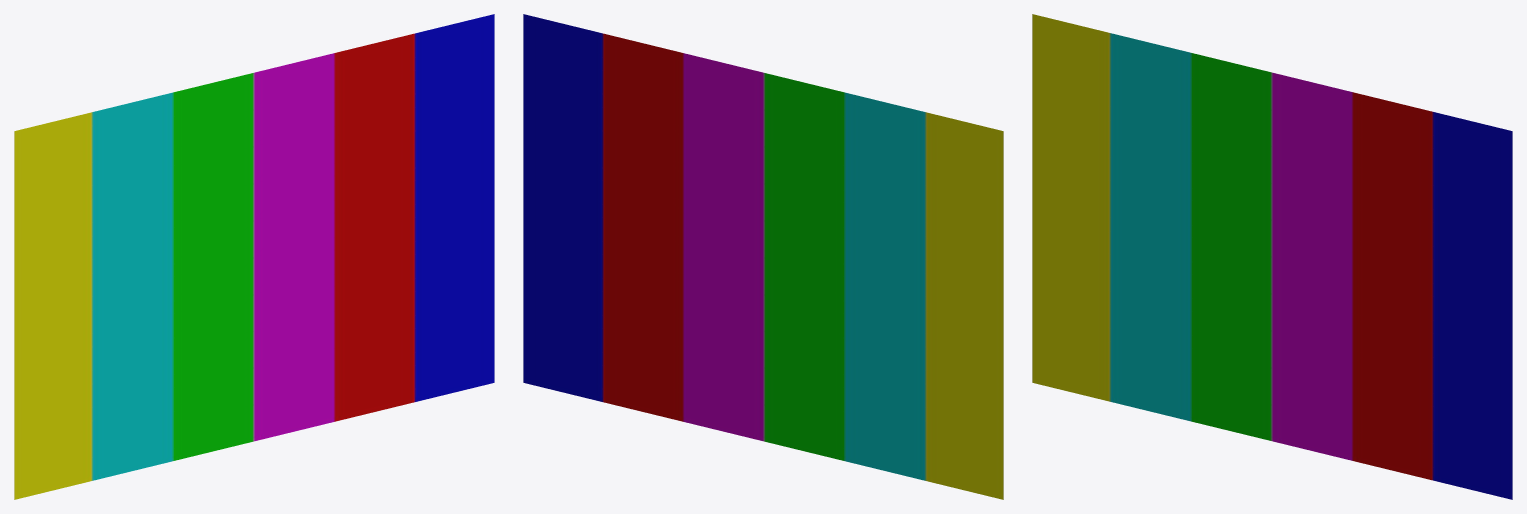
Rendered from pantallaDescompuesta.obj.
The picture shows the model from 3 angles, left to right: view 1: azimuth 30°, elevation 25°; view 2: azimuth 150°, elevation 25°; view 3: azimuth 330°, elevation 25°; orthographic projection.
Parts seen in each view (by area): view 1: pantalla_tele:pPlane6; view 2: pantalla_tele:pPlane6; view 3: pantalla_tele:pPlane6.
Boxes of the visible parts, x1,y1,x2,y2 form: pantalla_tele:pPlane6: (14, 14, 494, 499); pantalla_tele:pPlane6: (523, 14, 1003, 499); pantalla_tele:pPlane6: (1032, 14, 1512, 499).
Bounding box in the file's own units: 4.45 × 3.26 × 0.
Materials: 1 (1 with a texture image).
